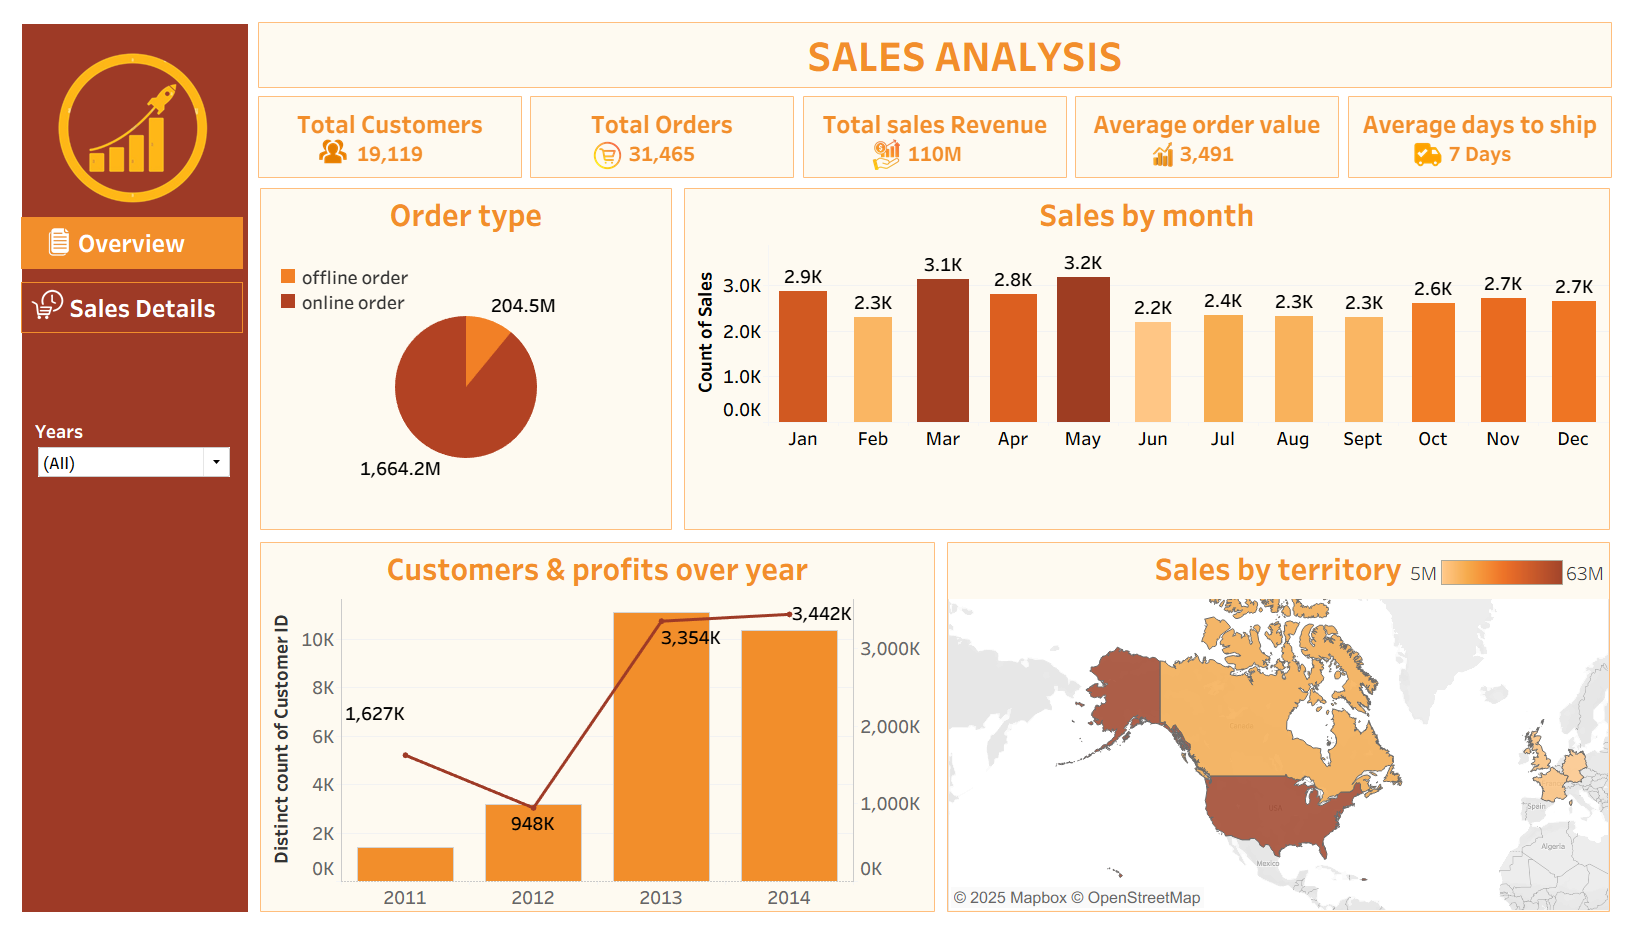

The page's visual inventory and layout, read from the dashboard file:
{"tool":"tableau","page":{"name":"Overview","canvas":[1600,900],"ordinal":0},"visuals":[{"type":"blank","box":[0,0,238,900]},{"type":"text","box":[238,0,1362,74]},{"type":"worksheet","title":"Total Customers","mark":"Automatic","box":[238,74,272.4,90]},{"type":"worksheet","title":"Total Orders","mark":"Automatic","box":[510.4,74,272.4,90]},{"type":"worksheet","title":"Total Sales Revenue","mark":"Automatic","box":[782.8,74,272.4,90]},{"type":"worksheet","title":"Average order value","mark":"Automatic","box":[1055.2,74,272.4,90]},{"type":"worksheet","title":"Average days to ship","mark":"Automatic","box":[1327.6,74,272.4,90]},{"type":"image","param":"C:/Users/vshivani/Desktop/shivani/Tableau/4. sales analysis(ssms)/images/total_c","box":[294,119,45,45]},{"type":"image","param":"C:/Users/vshivani/Desktop/shivani/Tableau/4. sales analysis(ssms)/images/average","box":[1396,119,32,33]},{"type":"image","param":"C:/Users/vshivani/Desktop/shivani/Tableau/4. sales analysis(ssms)/images/total_s","box":[856,121,41,31]},{"type":"image","param":"C:/Users/vshivani/Desktop/shivani/Tableau/4. sales analysis(ssms)/images/average","box":[1127,121,40,34]},{"type":"image","param":"C:/Users/vshivani/Desktop/shivani/Tableau/4. sales analysis(ssms)/images/total_o","box":[576,122,31,30]},{"type":"worksheet","title":"Order type","mark":"Pie","box":[238,164,424,354]},{"type":"worksheet","title":"Sales by month","mark":"Bar","rows":["SalesOrderID"],"cols":["OrderDate"],"box":[662,164,938,354]},{"type":"dashboard-object","box":[5,199,222,52]},{"type":"image","param":"C:/Users/vshivani/Desktop/shivani/Tableau/4. sales analysis(ssms)/images/overvie","box":[23,203,46,41]},{"type":"legend","title":"Order type","param":"[federated.06kw8yd0rvrepq1g4vn700ennon1].[none:Calculation_273030789583044623:nk","box":[260,220,140,76]},{"type":"dashboard-object","box":[5,264,222,51]},{"type":"image","param":"C:/Users/vshivani/Desktop/shivani/Tableau/4. sales analysis(ssms)/images/order_d","box":[5,269,52,49]},{"type":"filter","title":"Sales by month","param":"[federated.06kw8yd0rvrepq1g4vn700ennon1].[yr:OrderDate:ok]","box":[19,400,198,70]},{"type":"legend","title":"Sales by territory","param":"[federated.06kw8yd0rvrepq1g4vn700ennon1].[sum:LineTotal:qk]","box":[1390,512,203,70]},{"type":"worksheet","title":"Customers & profits over year","mark":"Bar","rows":["CustomerID","Calculation_273030789590962195"],"cols":["OrderDate"],"box":[238,518,687,382]},{"type":"worksheet","title":"Sales by territory","mark":"Automatic","box":[925,518,675,382]}]}

Visuals, with their boxes on the page's 1600x900 design canvas (x1, y1, x2, y2). These are canvas units, not pixel positions in the 1642x937 screenshot, which may show the page scaled, cropped or inside an application window:
blank: 0 0 238 900
text: 238 0 1600 74
"Total Customers" worksheet: 238 74 510 164
"Total Orders" worksheet: 510 74 783 164
"Total Sales Revenue" worksheet: 783 74 1055 164
"Average order value" worksheet: 1055 74 1328 164
"Average days to ship" worksheet: 1328 74 1600 164
image: 294 119 339 164
image: 1396 119 1428 152
image: 856 121 897 152
image: 1127 121 1167 155
image: 576 122 607 152
"Order type" worksheet (Pie marks): 238 164 662 518
"Sales by month" worksheet (Bar marks): 662 164 1600 518
dashboard-object: 5 199 227 251
image: 23 203 69 244
"Order type" legend: 260 220 400 296
dashboard-object: 5 264 227 315
image: 5 269 57 318
"Sales by month" filter: 19 400 217 470
"Sales by territory" legend: 1390 512 1593 582
"Customers & profits over year" worksheet (Bar marks): 238 518 925 900
"Sales by territory" worksheet: 925 518 1600 900
